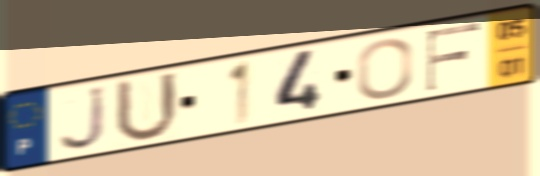1: (225, 55, 258, 129)
4: (270, 46, 331, 118)
F: (423, 19, 484, 95)
J: (57, 82, 110, 154)
O: (354, 35, 415, 102)
U: (112, 69, 182, 146)
